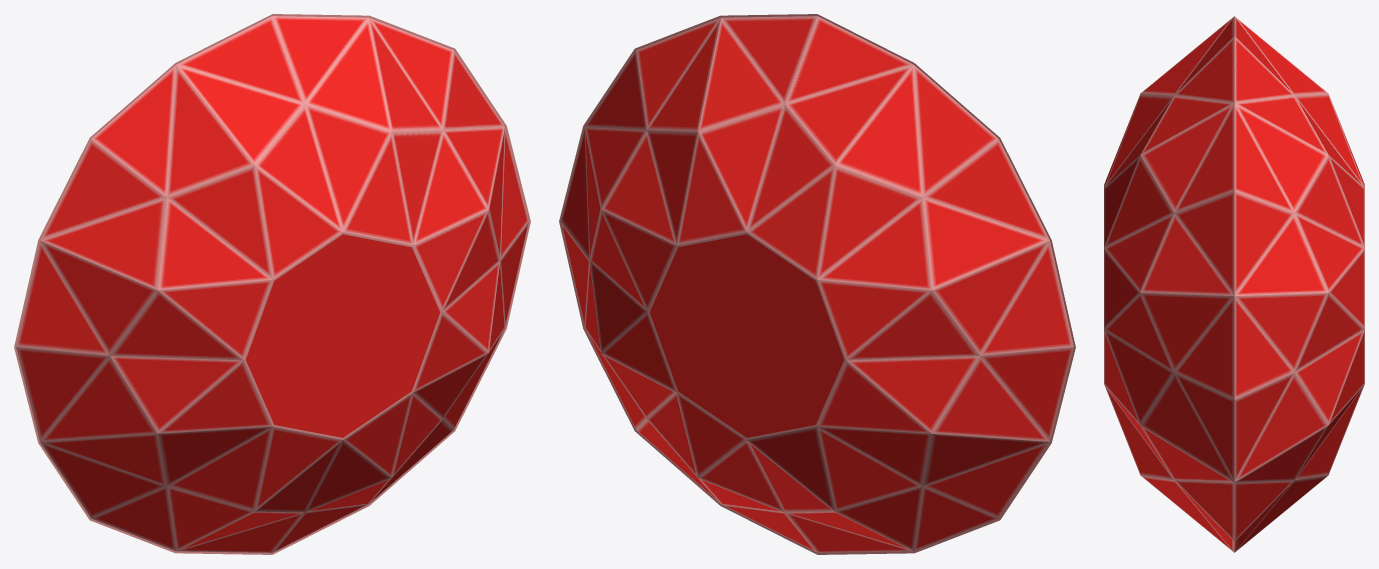
File: Diament1.fbx
The picture shows the model from 3 angles, left to right: view 1: azimuth 30°, elevation 25°; view 2: azimuth 150°, elevation 25°; view 3: azimuth 270°, elevation 25°; orthographic projection. The views are drawn at different scales.
Visible parts, largest first — view 1: Cylinder; view 2: Cylinder; view 3: Cylinder.
Part boxes in pixels (x1,y1,x2,y2): Cylinder: [14, 14, 530, 554]; Cylinder: [559, 14, 1075, 554]; Cylinder: [1104, 16, 1364, 552].
Size of the model in its own units: 250 by 250 by 118.
